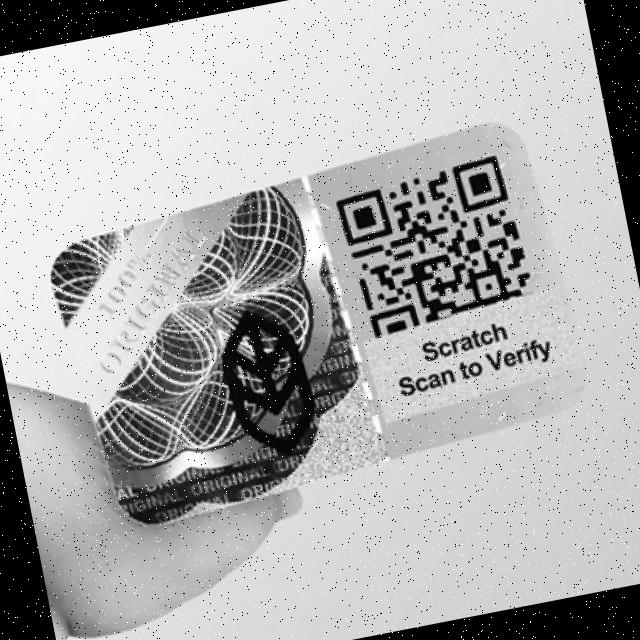QR-codes: (330, 151, 542, 339)
